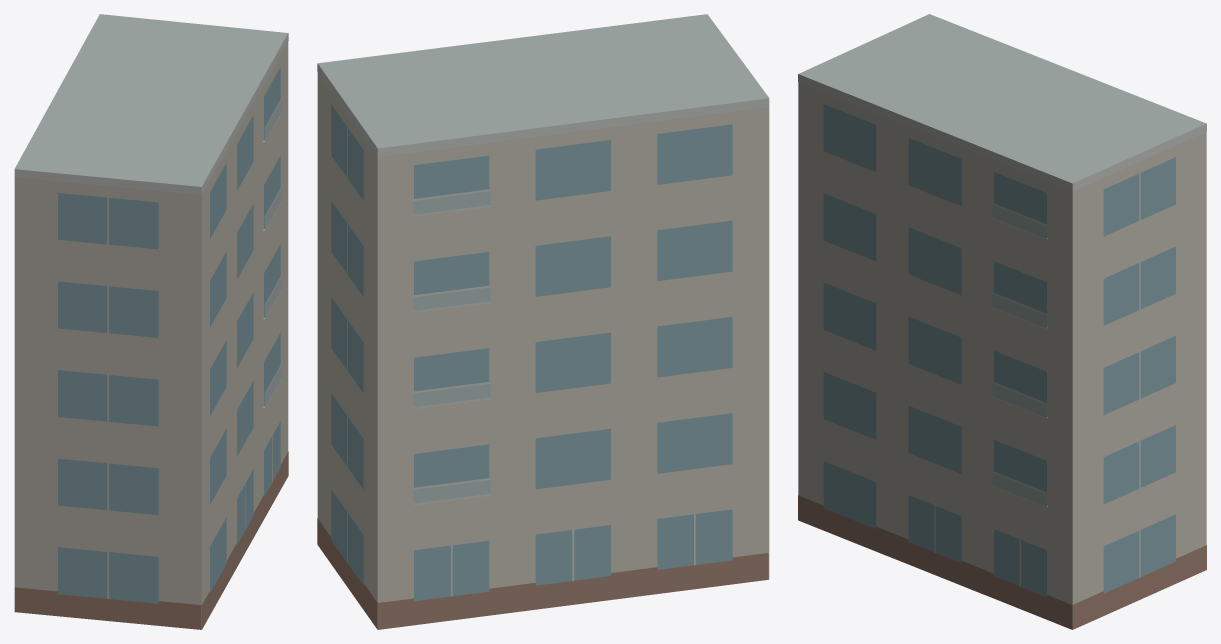
The model's file is survey-upis-32618330.glb.
The picture shows the model from 3 angles, left to right: view 1: azimuth 30°, elevation 25°; view 2: azimuth 150°, elevation 25°; view 3: azimuth 270°, elevation 25°; orthographic projection. The views are drawn at different scales.
Parts seen in each view (by area): view 1: survey-upis-32618330.tmp; view 2: survey-upis-32618330.tmp; view 3: survey-upis-32618330.tmp.
Boxes of the visible parts, left/top/right/bottom form: survey-upis-32618330.tmp: left=14, top=14, right=288, bottom=629; survey-upis-32618330.tmp: left=317, top=14, right=769, bottom=629; survey-upis-32618330.tmp: left=798, top=14, right=1206, bottom=629.
Bounding box in the file's own units: 11.04 × 13.55 × 11.25.
